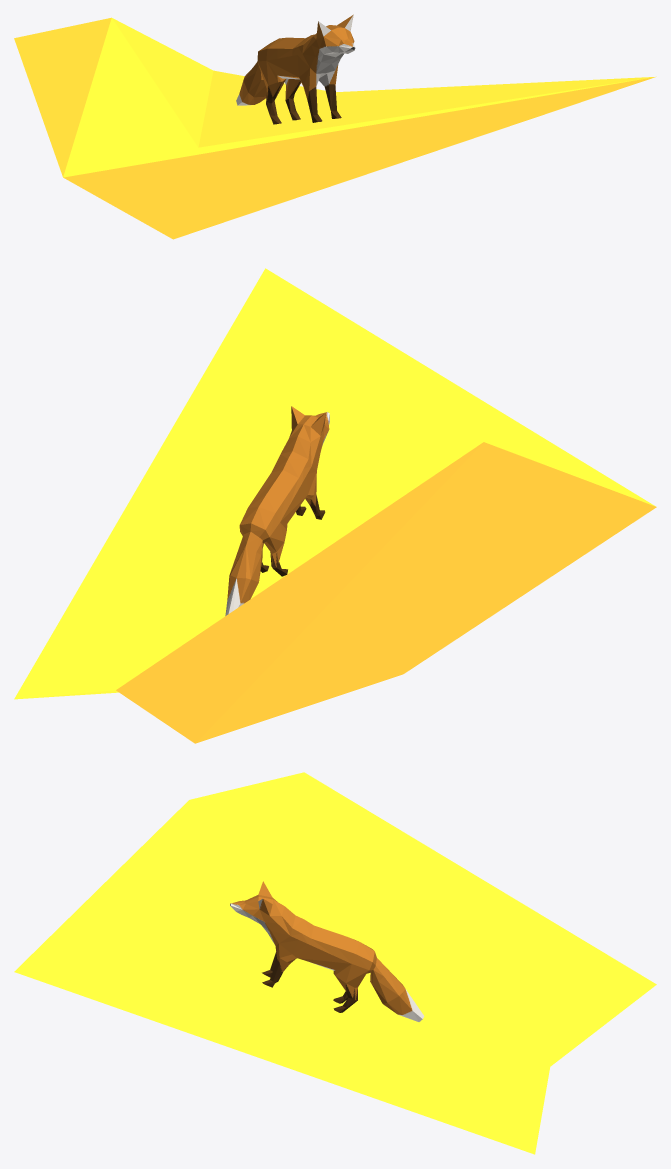
File: Fox.glb
3 renders of one model, top to bottom at view 1: azimuth 30°, elevation 25°; view 2: azimuth 150°, elevation 25°; view 3: azimuth 270°, elevation 25°, orthographic. The views are drawn at different scales.
Parts seen in each view (by area): view 1: Cube, fox; view 2: Cube, fox; view 3: Cube, fox.
Boxes of the visible parts, left/top/right/bottom form: Cube: left=14, top=17, right=656, bottom=239; fox: left=236, top=14, right=355, bottom=124; Cube: left=14, top=268, right=656, bottom=743; fox: left=225, top=406, right=329, bottom=615; Cube: left=14, top=772, right=656, bottom=1154; fox: left=230, top=881, right=424, bottom=1021.
Bounding box in the file's own units: 8.75 × 4.28 × 10.91.
2 materials, 1 textured.
